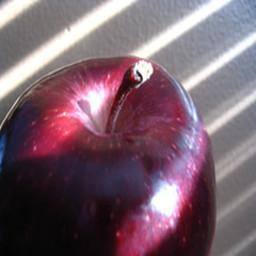apple: (0, 56, 217, 252)
